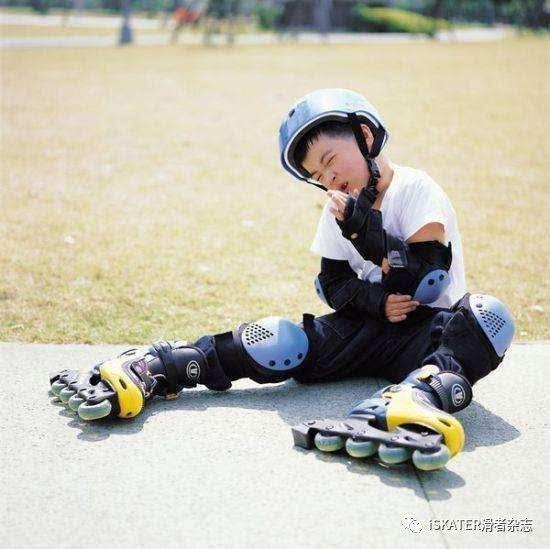Fall-Detected: (51, 71, 503, 466)
